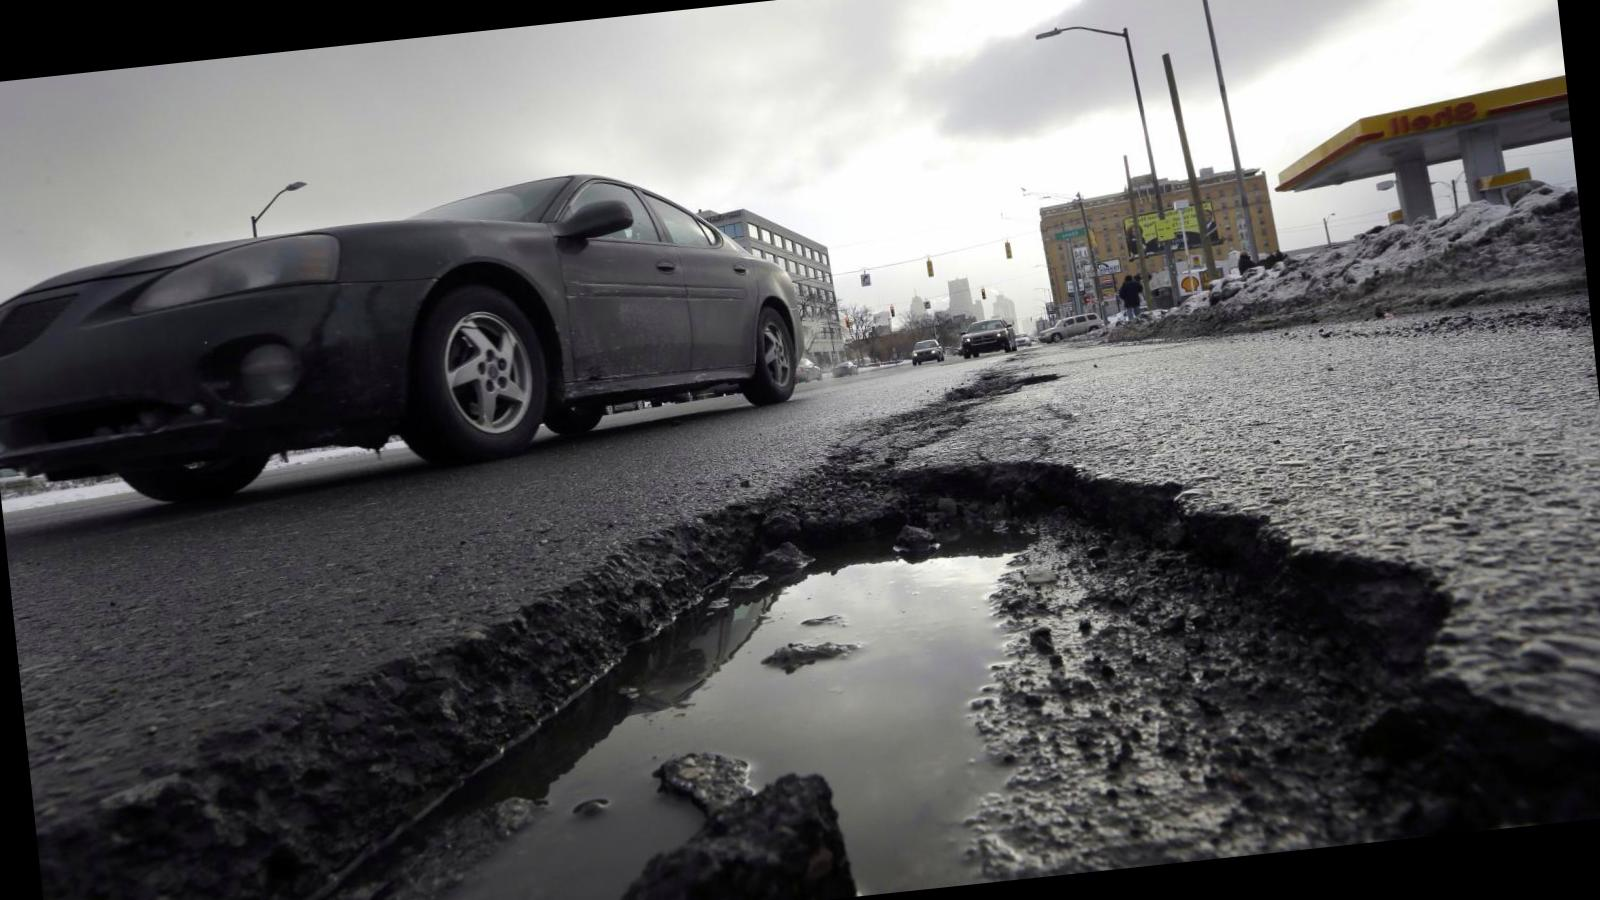pothole: (3, 353, 1600, 900)
